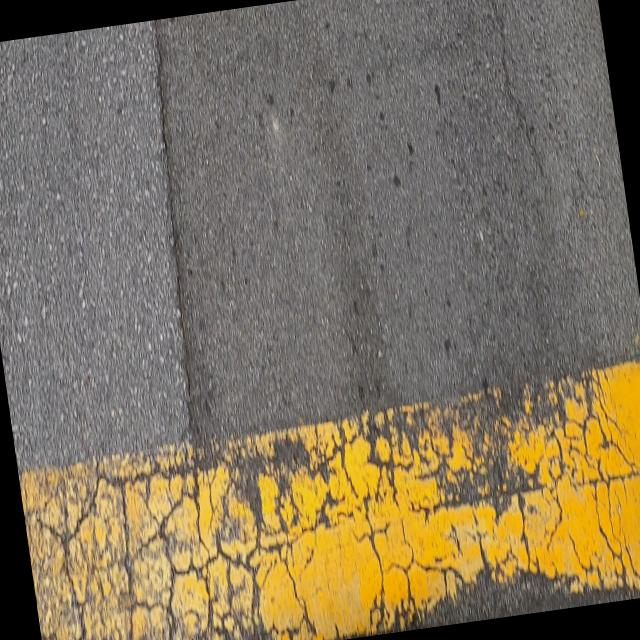Retak-Buaya: (21, 376, 640, 640)
Retak-Memanjang: (150, 24, 200, 445)
